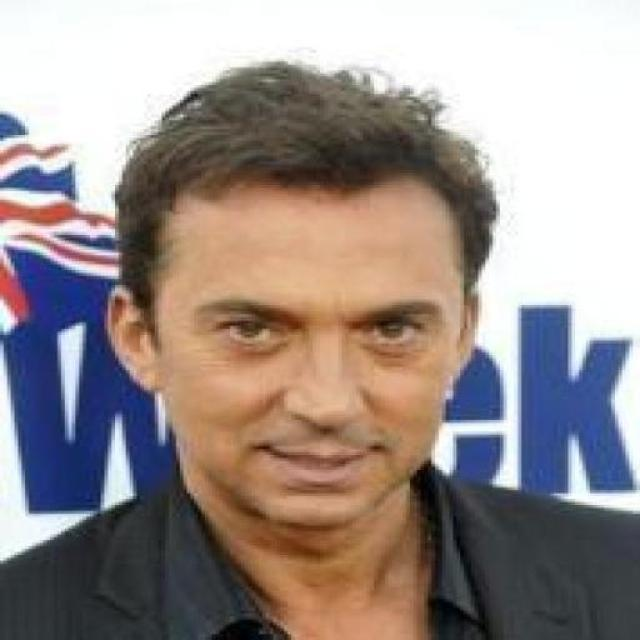bareface: (123, 136, 492, 530)
